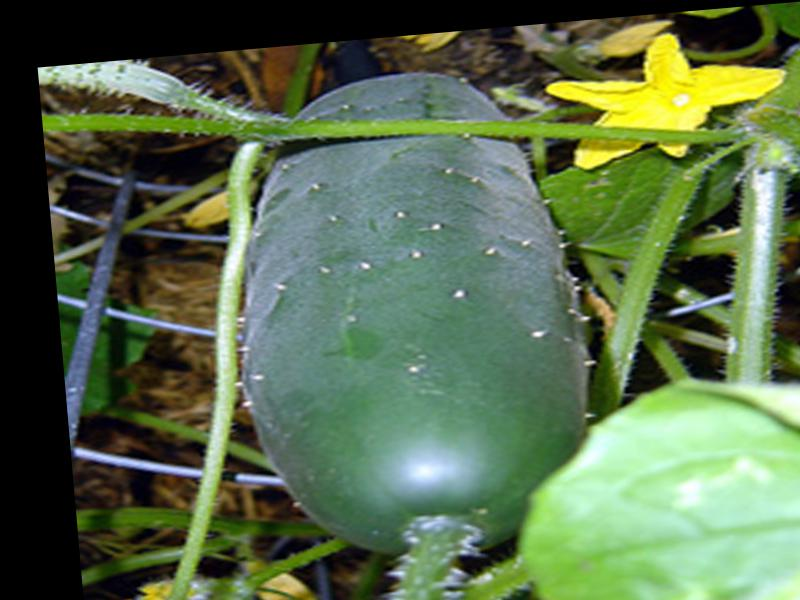Cucumber: (220, 64, 604, 576)
